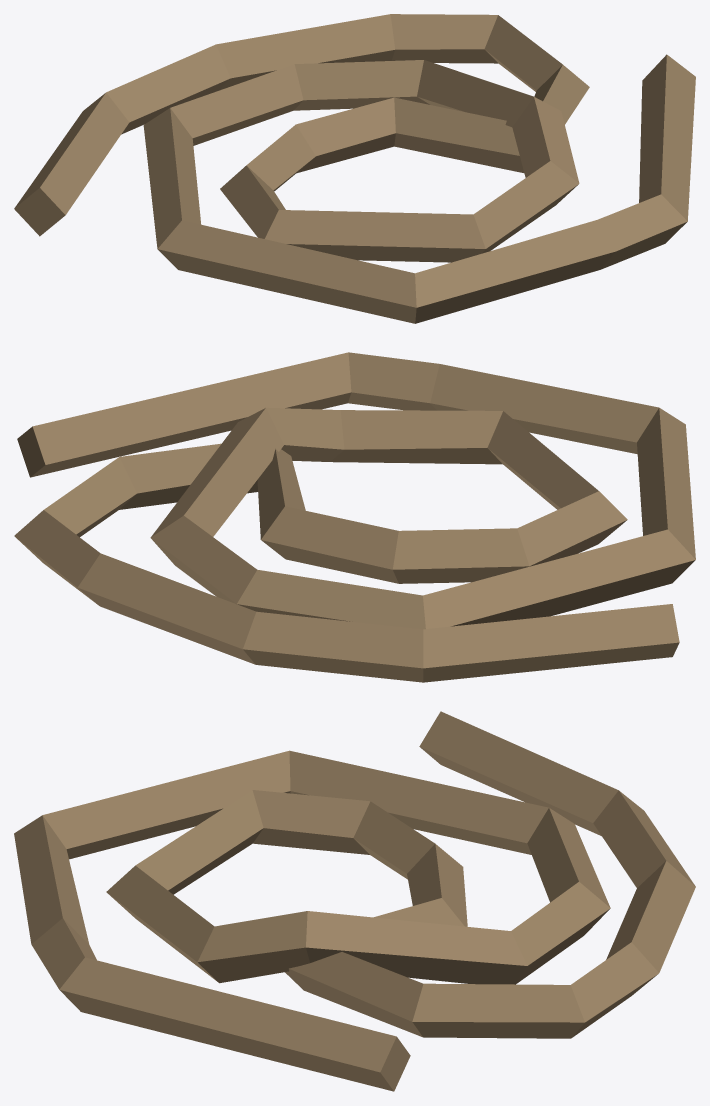
Rendered from SM_Rope.fbx.
3 renders of one model, top to bottom at view 1: azimuth 30°, elevation 25°; view 2: azimuth 150°, elevation 25°; view 3: azimuth 270°, elevation 25°, orthographic. The views are drawn at different scales.
Parts seen in each view (by area): view 1: SM_Rope; view 2: SM_Rope; view 3: SM_Rope.
Part boxes in pixels (x1,y1,x2,y2): SM_Rope: [14, 14, 695, 323]; SM_Rope: [14, 352, 695, 682]; SM_Rope: [14, 711, 695, 1091].
Size of the model in its own units: 63.56 by 7.39 by 53.05.
